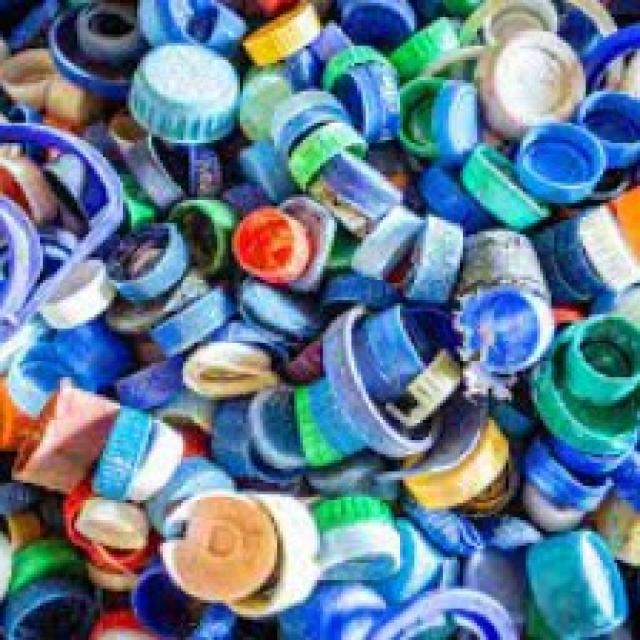heap: (49, 81, 640, 612)
plastic: (115, 40, 255, 160), (146, 496, 288, 608), (473, 29, 595, 141), (217, 195, 321, 302)
